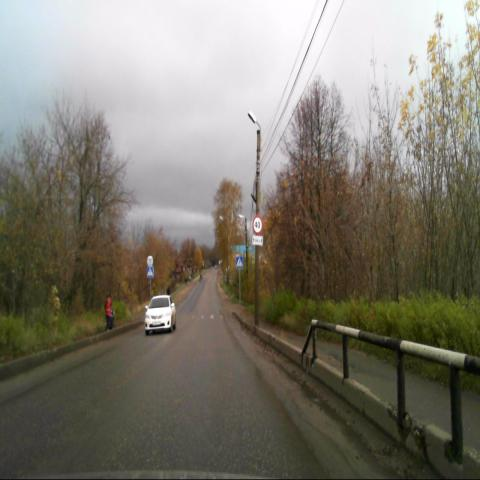3_24: (252, 214, 264, 234)
5_19_1: (146, 265, 154, 279), (235, 255, 243, 268)
